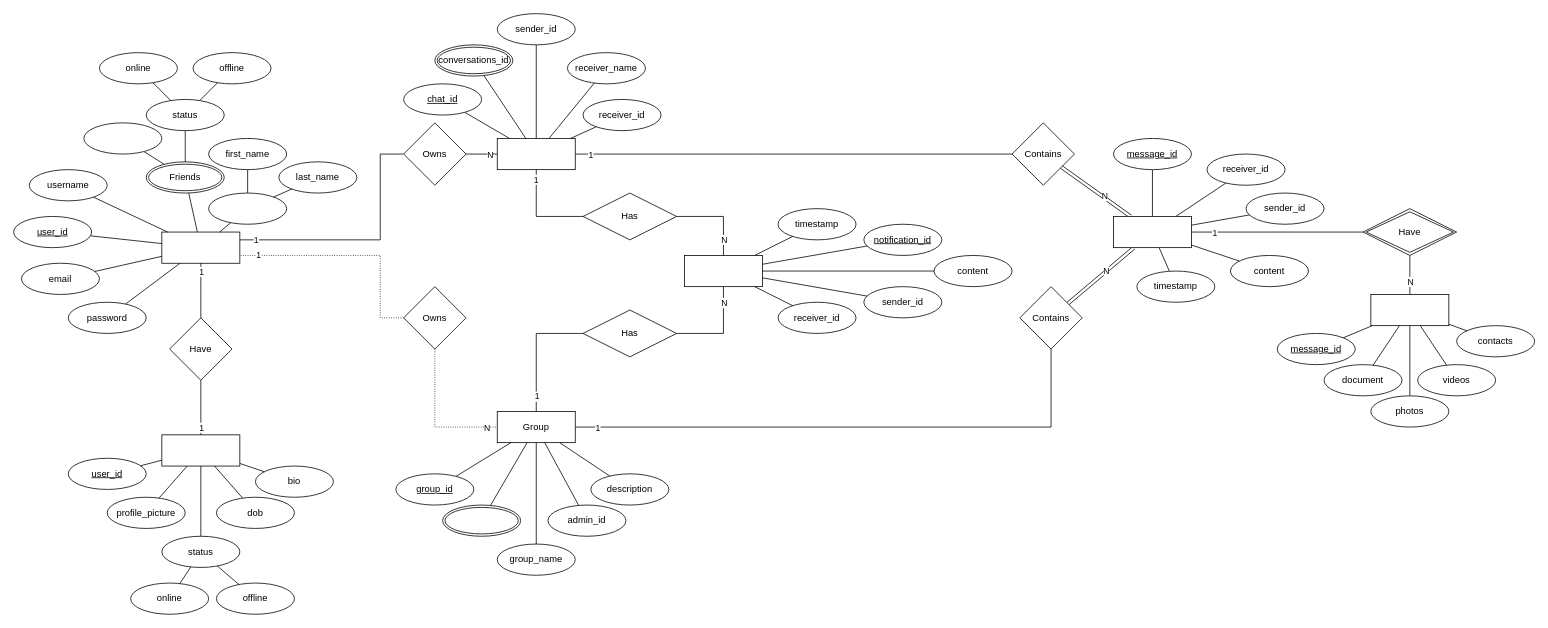
This 1548x628 diagram has some shape labels left out. The centre of each missing label's shape, as x and y in pixels:
"attachment" goes at [1409,310].
"Chat" goes at [535,154].
"friendship_id" goes at [122,138].
"Message" goes at [1152,232].
"name" goes at [247,208].
"Notification" goes at [723,271].
"Profile" goes at [200,450].
"User" goes at [200,247].
"user_ids" goes at [481,520].
